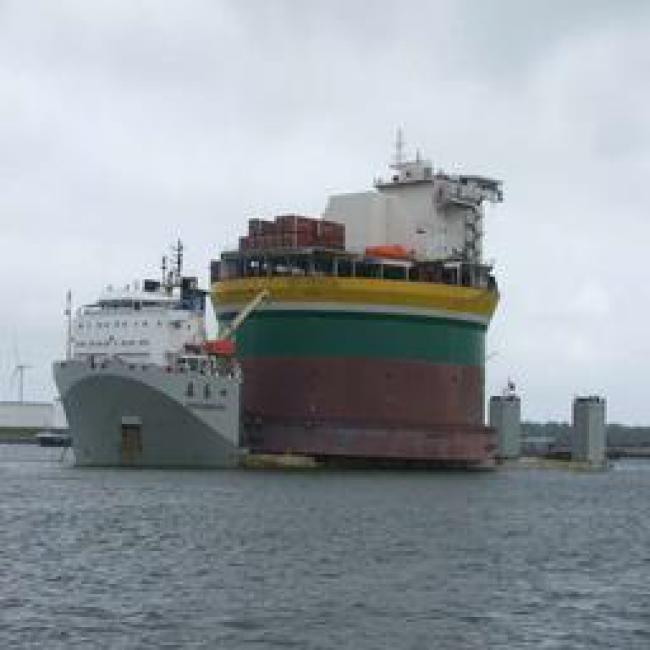Ship: (44, 266, 253, 472)
